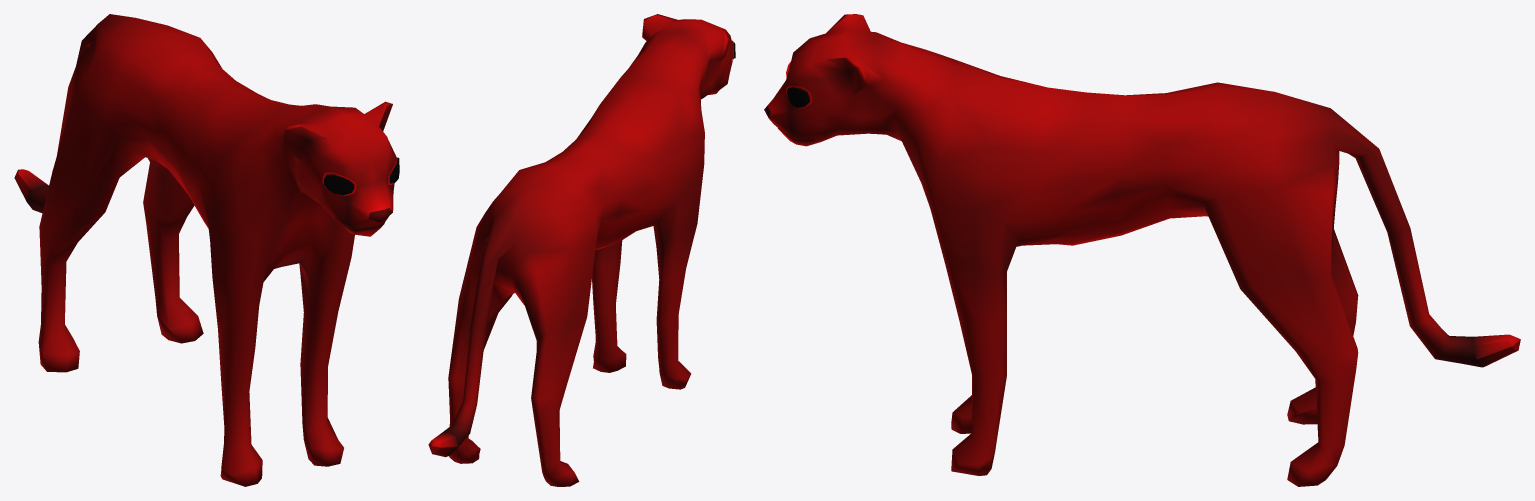
The model's file is Animals_Cheetah.fbx.
The picture shows the model from 3 angles, left to right: view 1: azimuth 30°, elevation 25°; view 2: azimuth 150°, elevation 25°; view 3: azimuth 270°, elevation 25°; orthographic projection. The views are drawn at different scales.
Visible parts, largest first — view 1: base; view 2: base; view 3: base.
Part boxes in pixels (bbox=[...]): base: bbox=[14, 14, 399, 486]; base: bbox=[428, 14, 735, 486]; base: bbox=[764, 14, 1520, 486].
Bounding box in the file's own units: 45.1 × 110 × 182.
